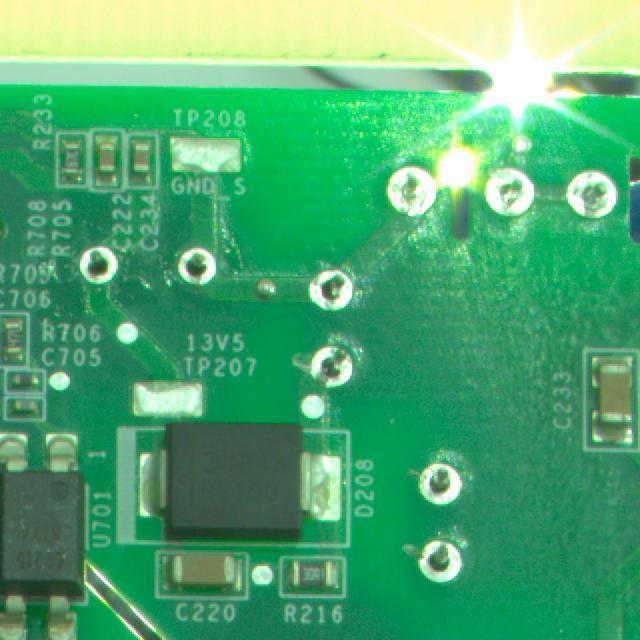Insufficient solder: (472, 163, 549, 241), (378, 155, 439, 228), (164, 239, 231, 301), (411, 453, 475, 516), (563, 164, 620, 230), (300, 266, 370, 318), (305, 335, 363, 395), (411, 536, 483, 581), (75, 236, 127, 294)
